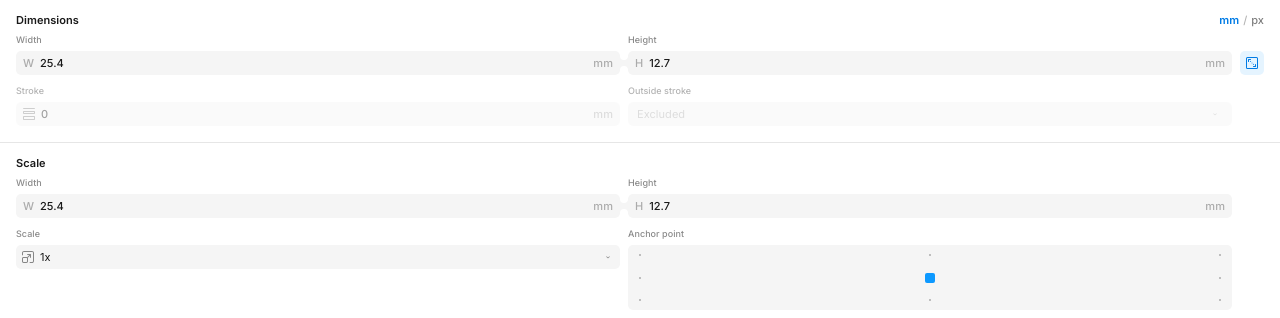
Test case: PX to MM — Smart Print Size property panel › updates the paired field immediately when aspect ratio is locked
Click the button "px" at (1258,20), box [1251, 8, 1264, 32]
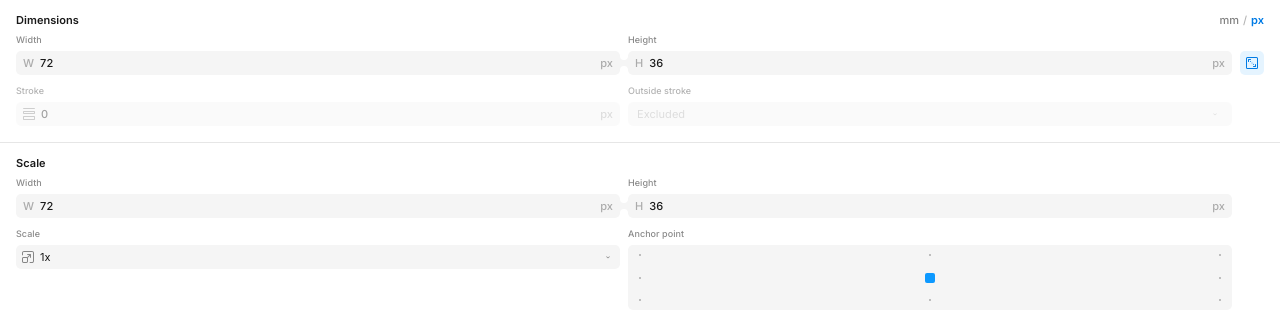
Check: the number field named "Width in px" holds "72"
Replace the text in the number field named "Width in px" with "100" at (318,63), box [40, 52, 596, 74]
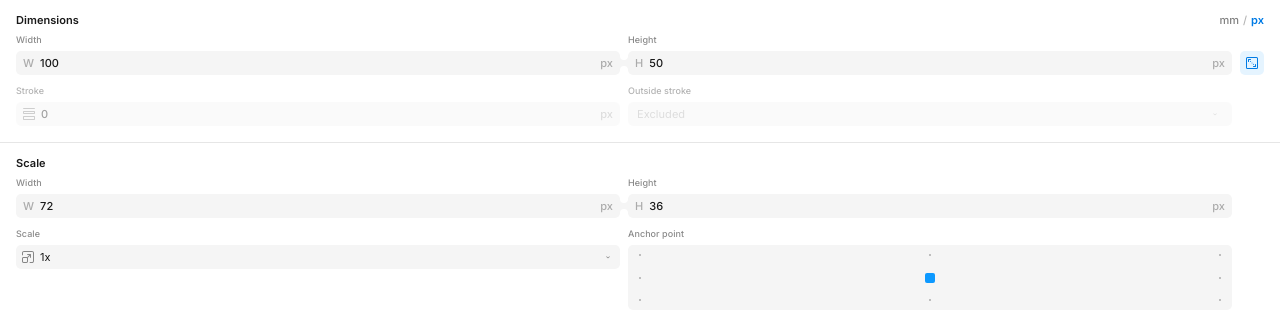
Check: the number field named "Height in px" holds "50", box [649, 52, 1208, 74]
